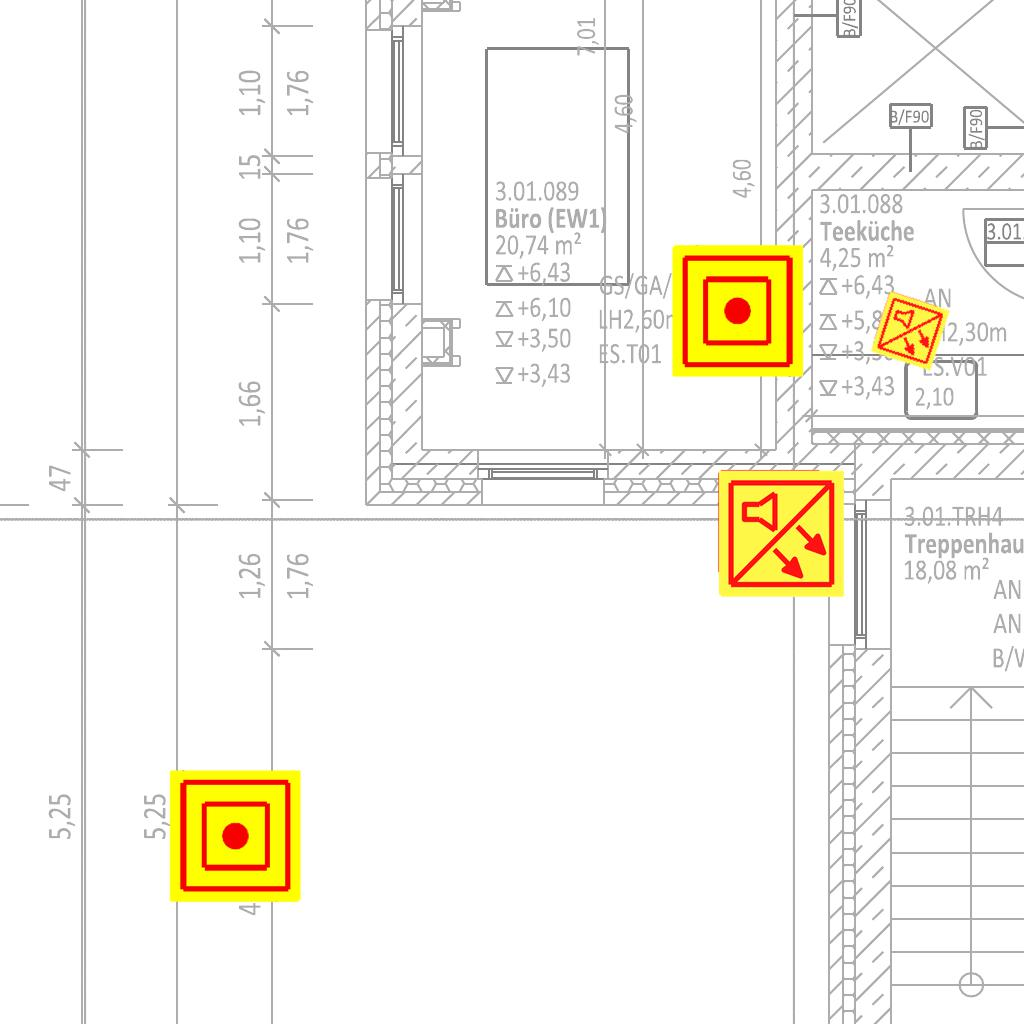NAM-Nichtautomatischer_Melder: (672, 245, 804, 377), (169, 770, 301, 902)
OKW_Multisensormelder_(Kombination_optischer_Rauch-Kahlenmonoxid_Waerme-Melder): (715, 468, 847, 600), (868, 289, 952, 373)
